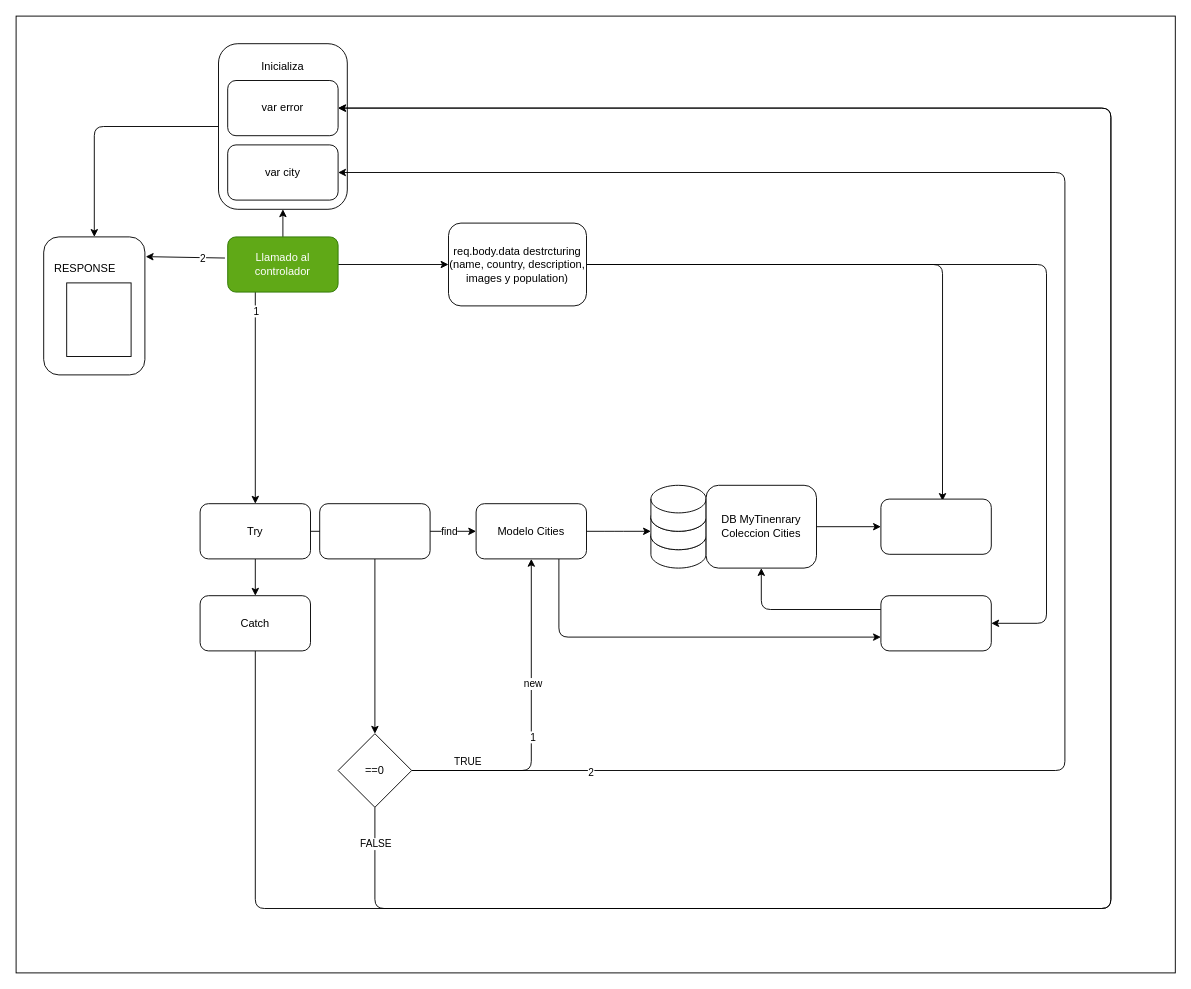
The diagram is 1191 pixels wide and 989 high, and some of its shapes have lost their labels. The shapes that lost their labels are listed below. From the top down, each one's box as (x1, y1, x2, y2) in pixels, then its label:
(66, 282, 131, 356): Error Success response
(319, 503, 430, 559): Inicializa var verifyCityExist
(880, 498, 991, 554): query by name
(880, 595, 991, 651): save
